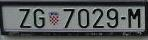-: (121, 17, 126, 20)
0: (78, 9, 89, 28)
2: (92, 8, 104, 28)
7: (63, 9, 75, 28)
9: (107, 8, 118, 28)
G: (34, 9, 45, 28)
M: (128, 9, 140, 28)
Z: (19, 9, 31, 28)
